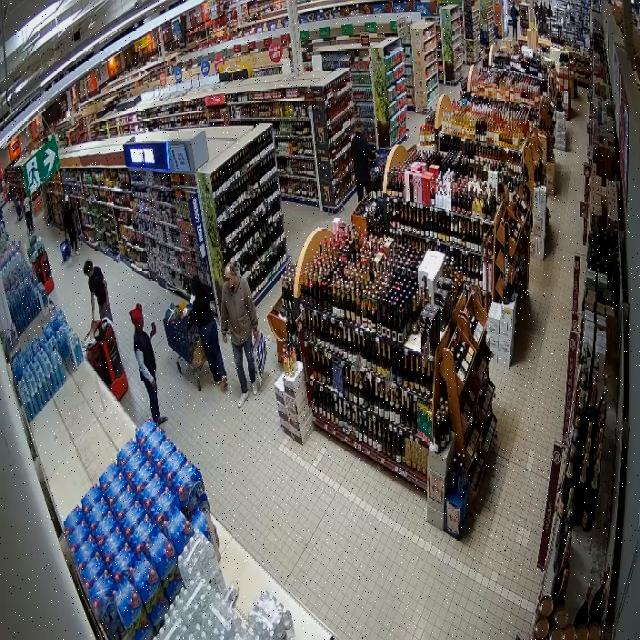bags: (253, 331, 266, 386)
hands: (253, 329, 258, 340), (152, 380, 157, 391), (106, 302, 110, 311), (223, 336, 228, 343), (92, 312, 95, 320)
person: (220, 262, 258, 407), (129, 303, 166, 424), (188, 276, 226, 389), (83, 260, 112, 321)
